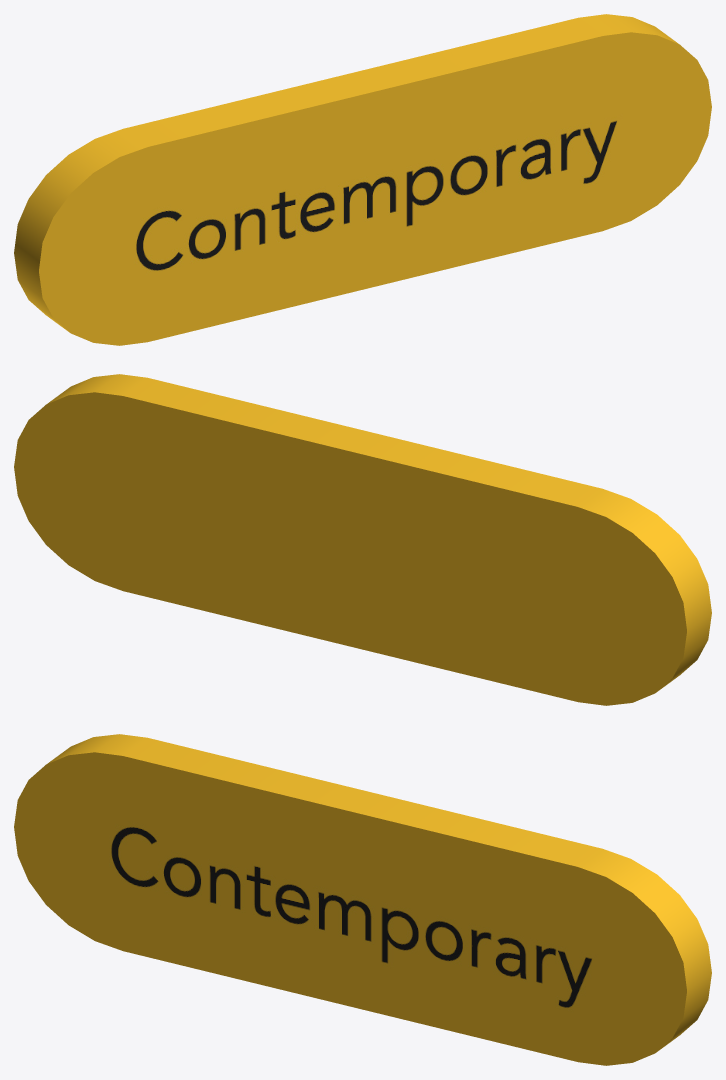
File: 2345_contemporary_elevation_selection.gltf
3 views of the same model, one above another, from view 1: azimuth 30°, elevation 25°; view 2: azimuth 150°, elevation 25°; view 3: azimuth 330°, elevation 25° (orthographic).
Parts seen in each view (by area): view 1: Contemporary.001; view 2: Contemporary.001; view 3: Contemporary.001.
Boxes of the visible parts, x1=… form: Contemporary.001: x1=14, y1=14, x2=711, y2=345; Contemporary.001: x1=14, y1=374, x2=711, y2=705; Contemporary.001: x1=14, y1=734, x2=711, y2=1065.
Size of the model in its own units: 0.7046 by 0.1952 by 0.0451.
Materials: 1 (1 with a texture image).
